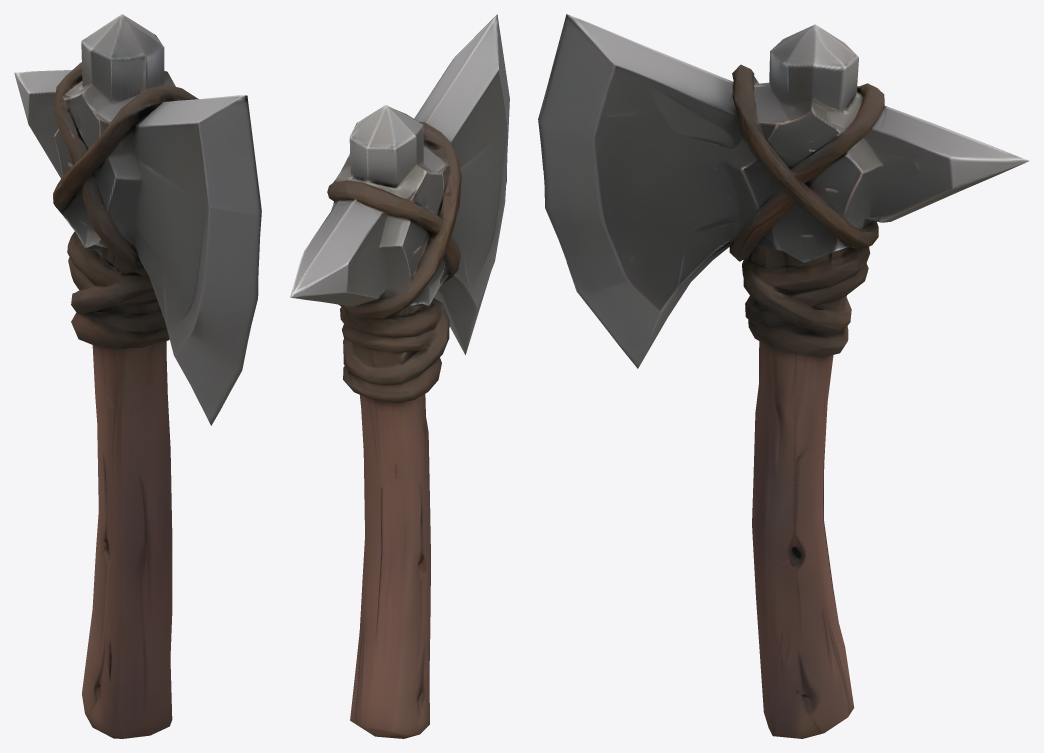
File: base_basic_shaded.fbx
3 views of the same model, side by side, from view 1: azimuth 30°, elevation 25°; view 2: azimuth 150°, elevation 25°; view 3: azimuth 270°, elevation 25° (orthographic). The views are drawn at different scales.
Parts seen in each view (by area): view 1: model; view 2: model; view 3: model.
Boxes of the visible parts, x1,y1,x2,y2 form: model: (14, 14, 261, 738); model: (290, 14, 509, 738); model: (538, 14, 1029, 738).
Size of the model in its own units: 31.13 by 175 by 109.
